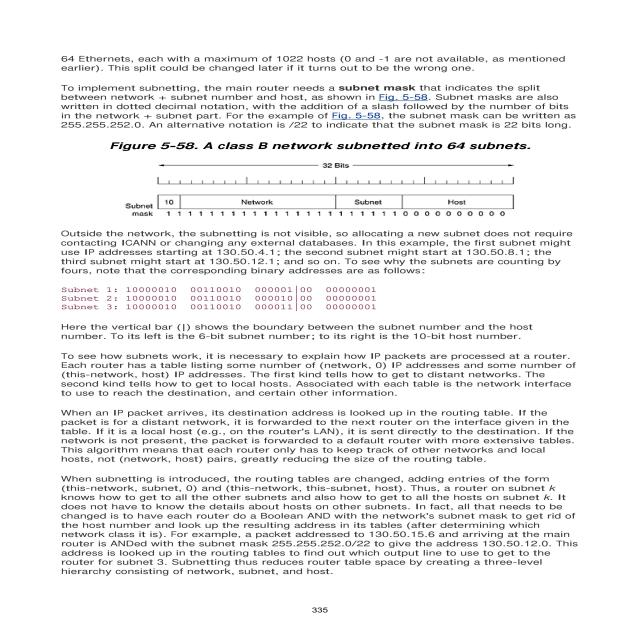diagram: (90, 132, 548, 225)
